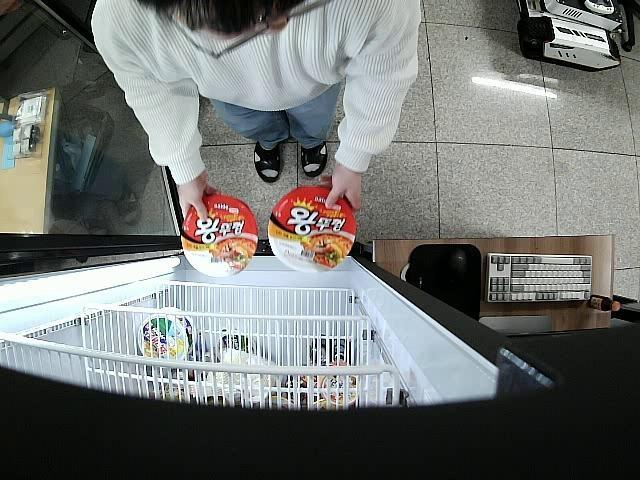10_wangTtukkeong: (268, 184, 356, 274), (178, 196, 258, 278)
